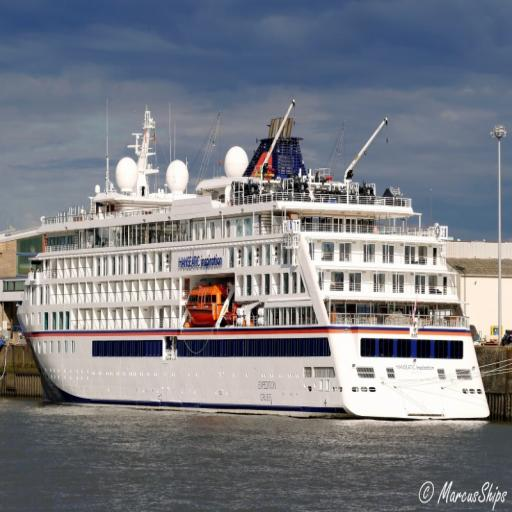cruises: (14, 98, 494, 431)
